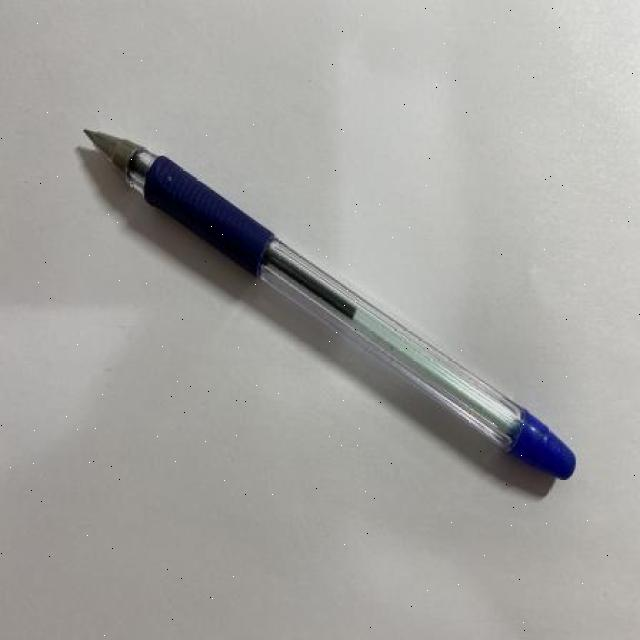pen: (81, 127, 576, 483)
